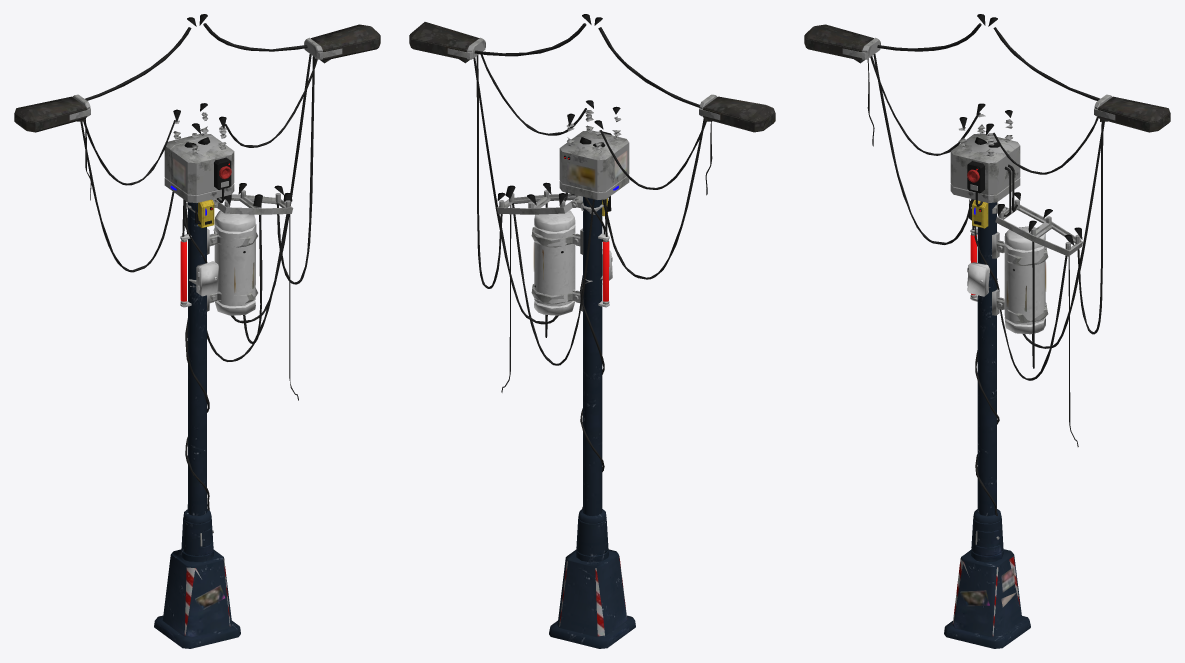
File: KB3D_NEC_BldgSM_A_Main.glb
3 views of the same model, side by side, from view 1: azimuth 30°, elevation 25°; view 2: azimuth 150°, elevation 25°; view 3: azimuth 330°, elevation 25° (orthographic).
Parts seen in each view (by area): view 1: KB3D_NEC_BldgSM_A_Main; view 2: KB3D_NEC_BldgSM_A_Main; view 3: KB3D_NEC_BldgSM_A_Main.
Part boxes in pixels (x1,y1,x2,y2): KB3D_NEC_BldgSM_A_Main: (14,14,380,648); KB3D_NEC_BldgSM_A_Main: (409,14,775,648); KB3D_NEC_BldgSM_A_Main: (804,14,1170,648).
Bounding box in the file's own units: 3.62 × 5.99 × 0.6881.
13 materials, 9 textured.
